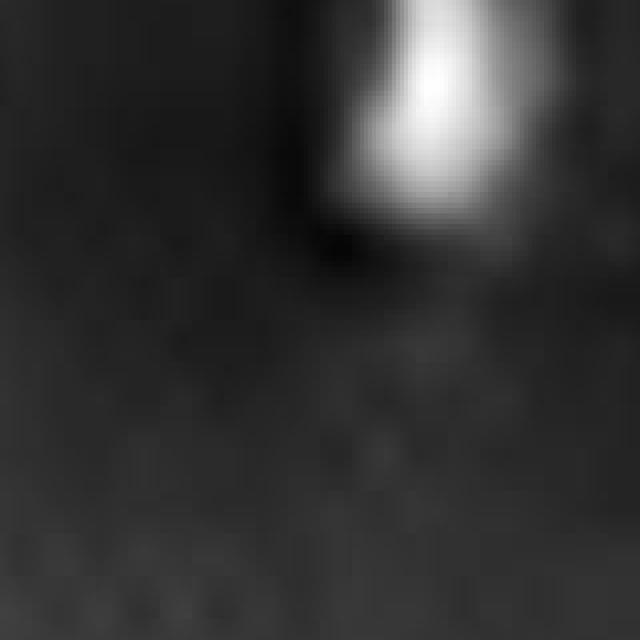person: (313, 1, 561, 374)
